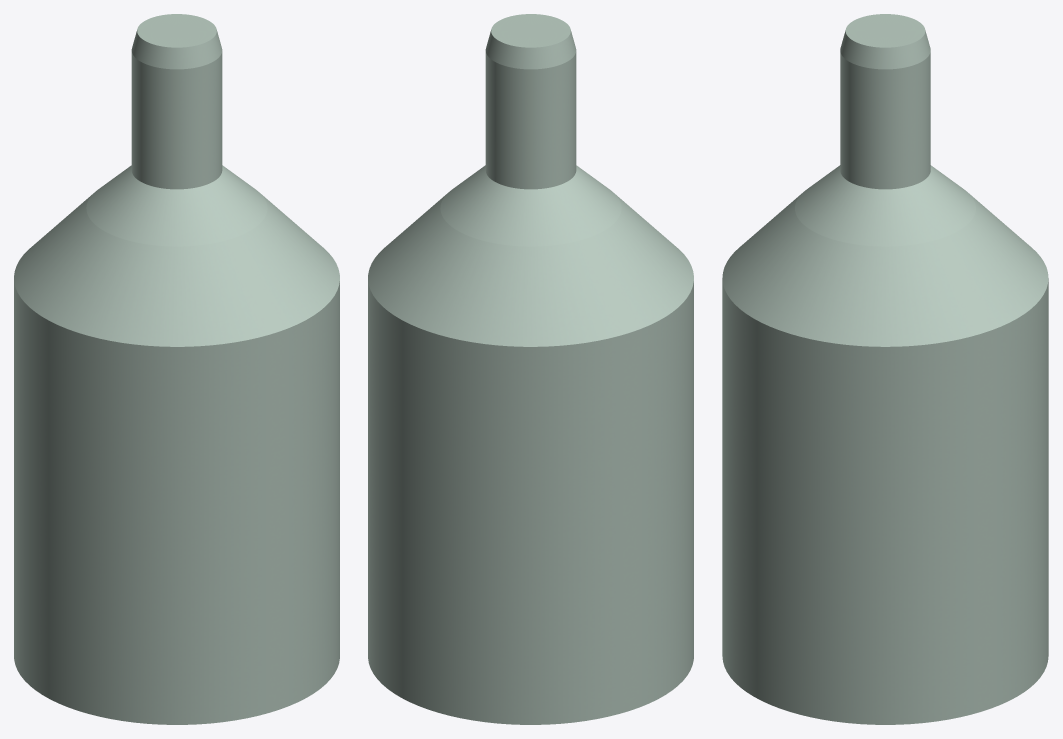
Rendered from misc_com_redware_flask.dae.
3 views of the same model, side by side, from view 1: azimuth 30°, elevation 25°; view 2: azimuth 150°, elevation 25°; view 3: azimuth 270°, elevation 25° (orthographic).
Parts seen in each view (by area): view 1: porcelain; view 2: porcelain; view 3: porcelain.
Boxes of the visible parts, bbox=[...] form: porcelain: bbox=[14, 14, 339, 724]; porcelain: bbox=[368, 14, 693, 724]; porcelain: bbox=[722, 14, 1048, 724].
Size of the model in its own units: 12.16 by 12.16 by 26.07.
